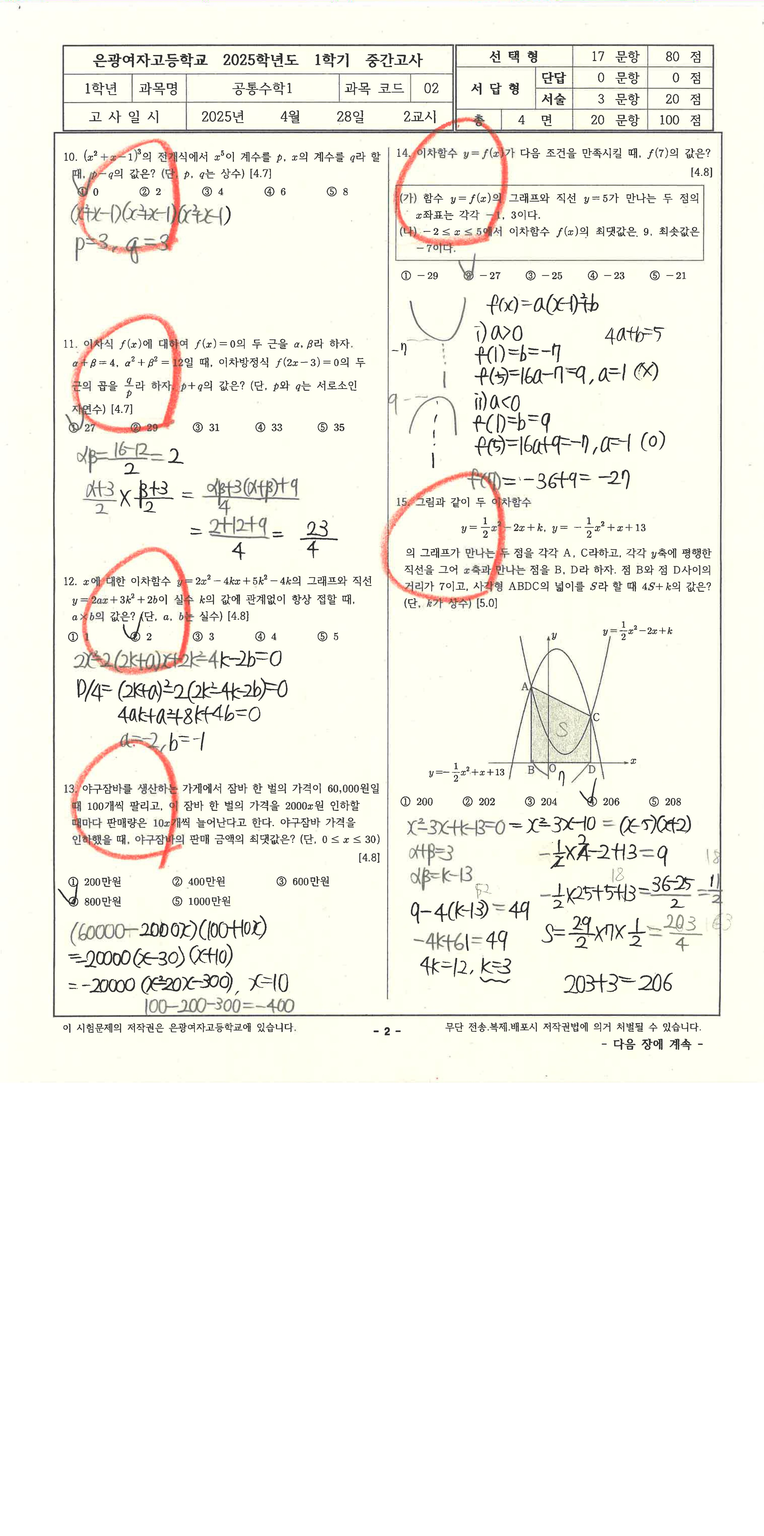problem: (393, 489, 713, 810), (394, 140, 716, 286), (58, 778, 386, 910), (59, 327, 376, 437), (61, 572, 381, 646), (59, 142, 384, 201)
